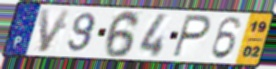4: (138, 11, 167, 59)
6: (102, 9, 143, 59), (209, 15, 243, 61)
9: (68, 11, 98, 54)
P: (169, 13, 213, 60)
V: (38, 7, 73, 54)
